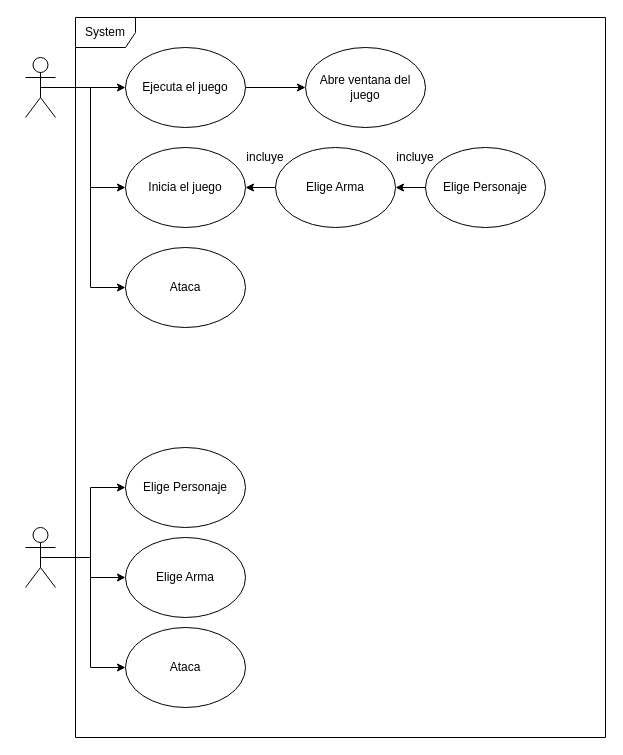
Some shapes in this 623 by 755 pixel diagram are drawn without their labels. Each missing label, with the box of its shape:
Jugador: (24, 56, 56, 118)
Máquina: (24, 526, 56, 588)
